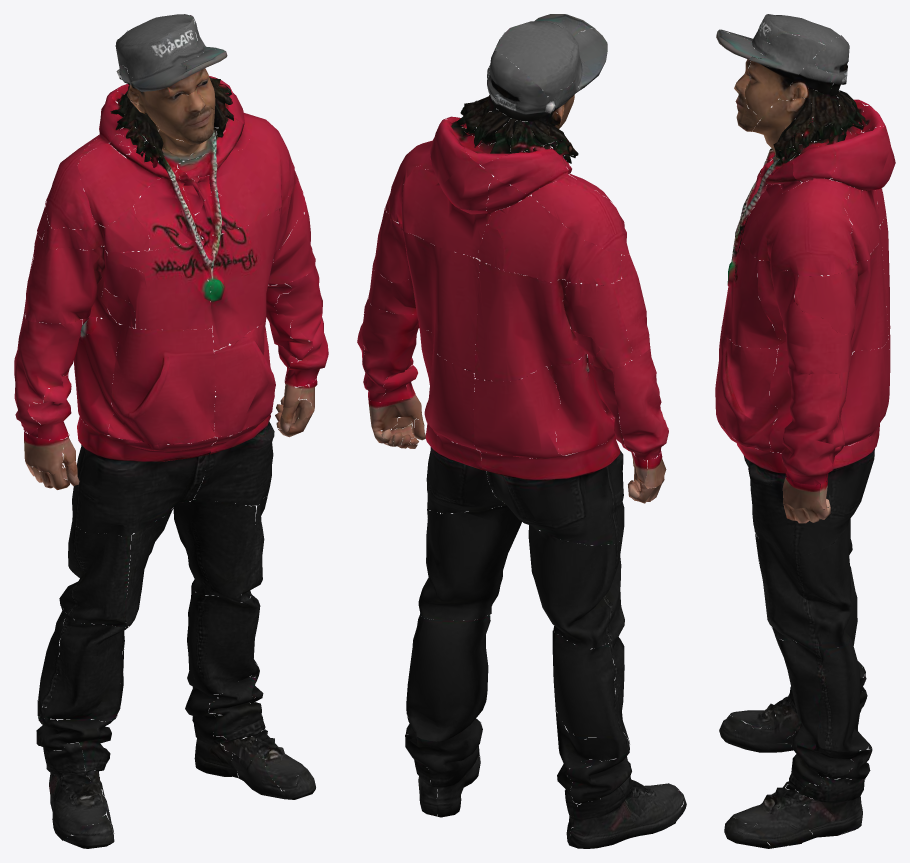
Rendered from rob.glb.
3 renders of one model, left to right at view 1: azimuth 30°, elevation 25°; view 2: azimuth 150°, elevation 25°; view 3: azimuth 270°, elevation 25°, orthographic.
Visible parts, largest first — view 1: ROB; view 2: ROB; view 3: ROB.
Boxes of the visible parts, x1,y1,x2,y2 form: ROB: (14,14,328,848); ROB: (357,14,686,848); ROB: (715,14,895,848).
Size of the model in its own units: 0.7344 by 1.8 by 0.3805.
Materials: 1 (1 with a texture image).
